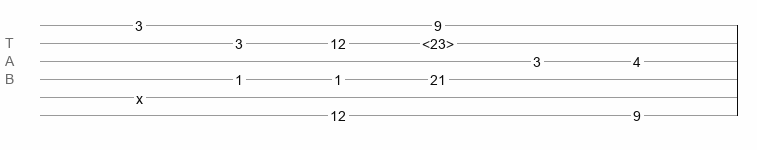1: (235, 72, 243, 82), (334, 72, 342, 82)
12: (330, 36, 346, 46), (330, 108, 346, 118)
21: (430, 72, 446, 82)
3: (135, 18, 143, 28), (235, 36, 243, 46), (533, 54, 541, 64)
4: (633, 54, 641, 64)
9: (434, 18, 442, 28), (633, 108, 641, 118)
harmonic: (422, 36, 454, 46)
x: (136, 91, 143, 99)
